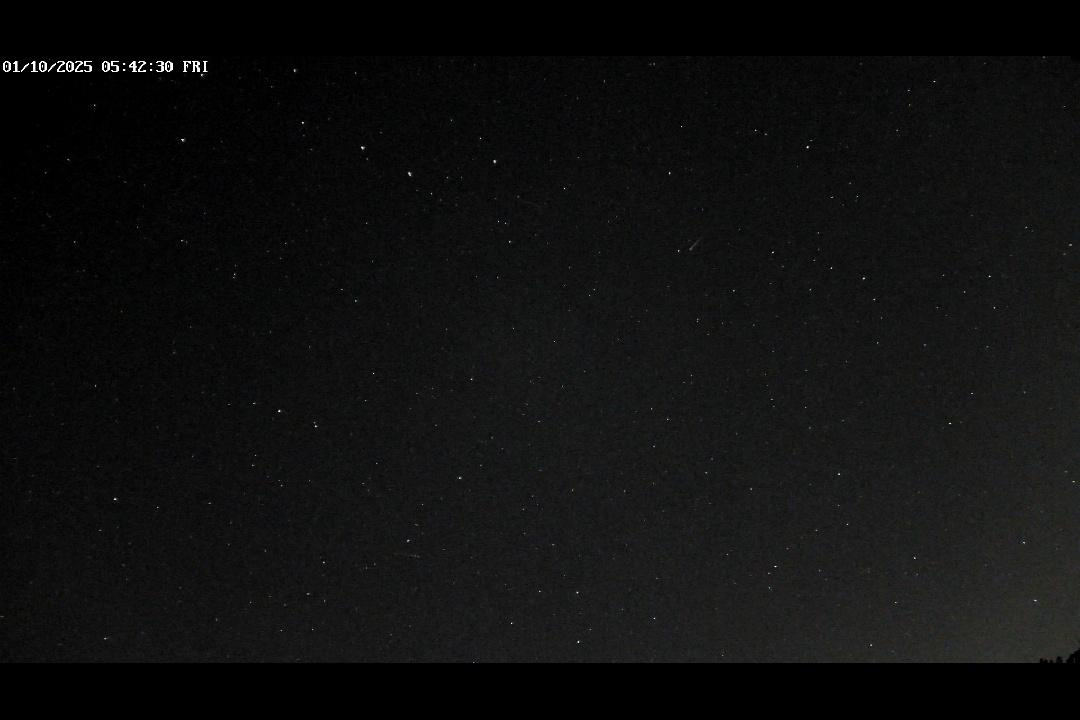Plane: (686, 221, 715, 253), (396, 550, 422, 559)
